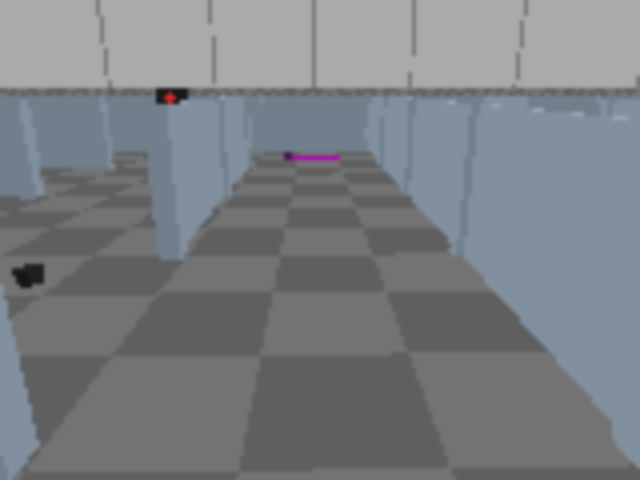goal_zone: (291, 154, 340, 162)
puck: (13, 264, 46, 287)
